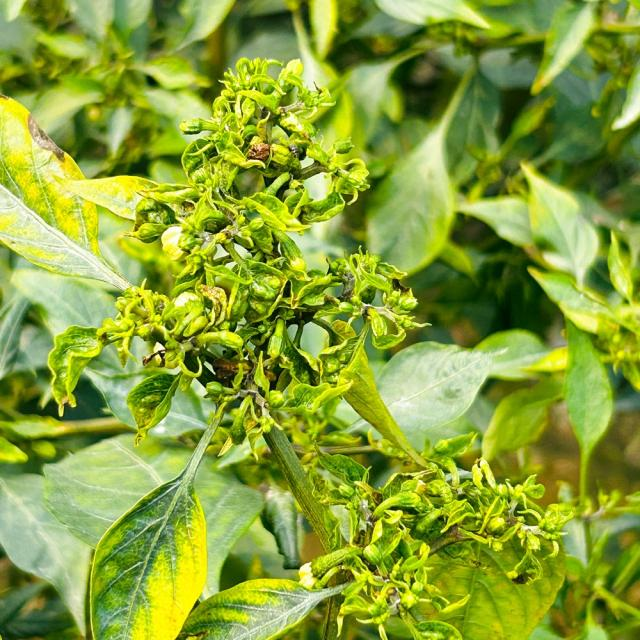Chilli_Leaf_Curl: (2, 54, 572, 638), (45, 54, 432, 463), (302, 446, 574, 638), (85, 392, 236, 638), (0, 92, 157, 293), (175, 576, 353, 638)
